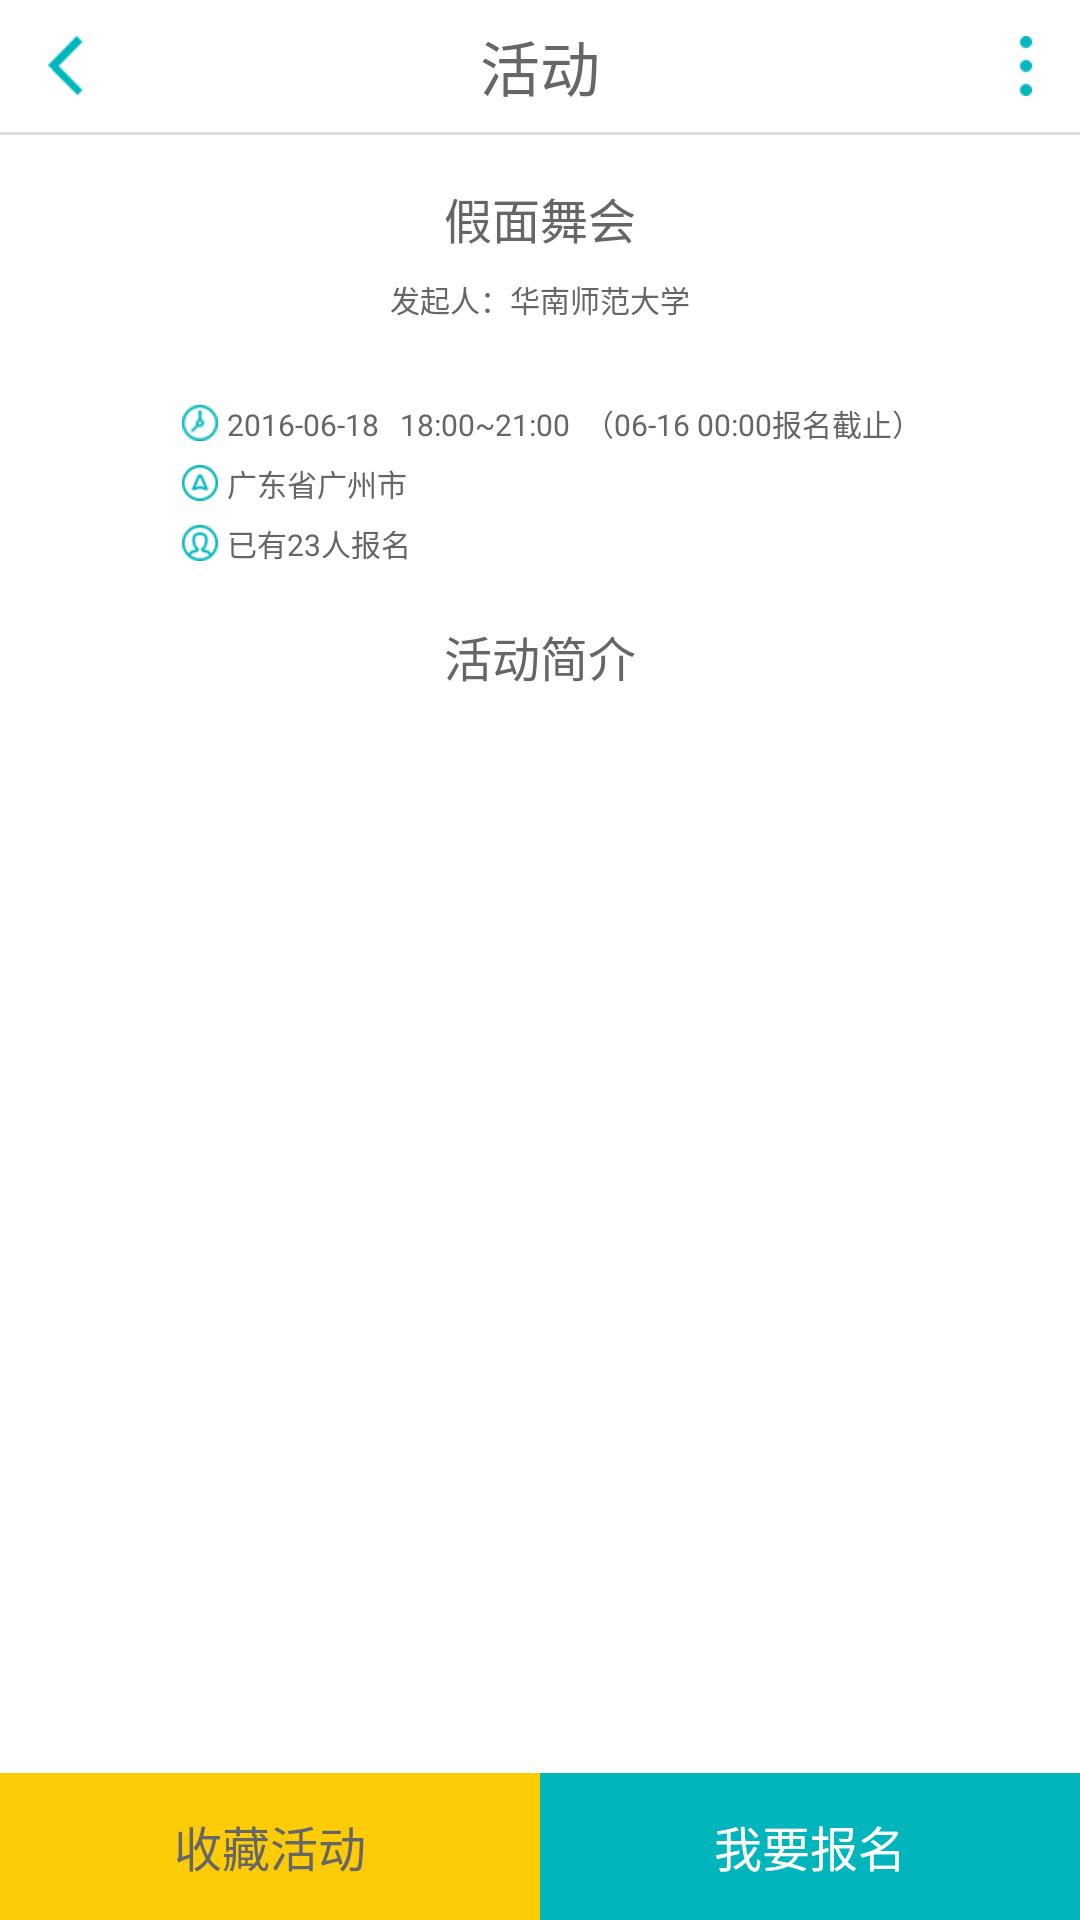

Icon bounding boxes for this 1080px x 1920px phone screenshot, format BBox(x1, y1, x2, y2):
address: BBox(182, 465, 218, 501)
location back: BBox(48, 36, 83, 96)
people: BBox(182, 525, 218, 561)
time: BBox(182, 405, 218, 441)
